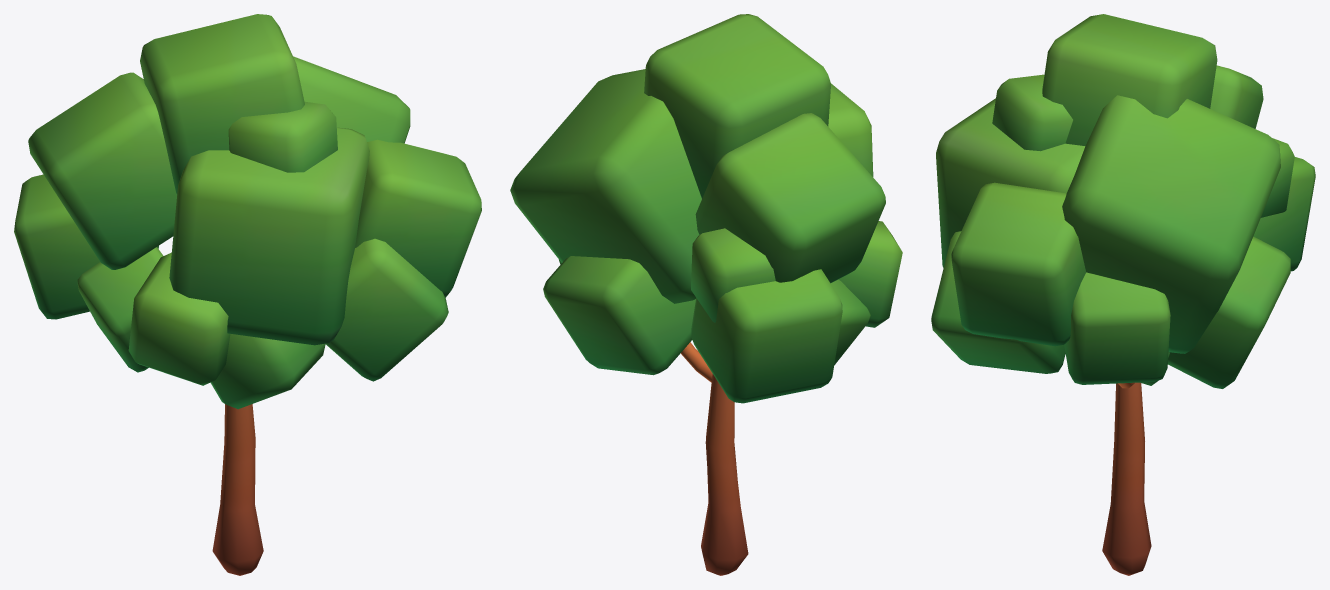
Rendered from forest_tree_3.glb.
The picture shows the model from 3 angles, left to right: view 1: azimuth 30°, elevation 25°; view 2: azimuth 150°, elevation 25°; view 3: azimuth 270°, elevation 25°; orthographic projection.
Visible parts, largest first — view 1: Tree_2_E_Color1; view 2: Tree_2_E_Color1; view 3: Tree_2_E_Color1.
Part boxes in pixels (bbox=[...]): Tree_2_E_Color1: bbox=[14, 14, 481, 575]; Tree_2_E_Color1: bbox=[510, 14, 902, 575]; Tree_2_E_Color1: bbox=[931, 14, 1315, 575].
Bounding box in the file's own units: 6.05 × 8.79 × 5.68.
Materials: 1 (1 with a texture image).
